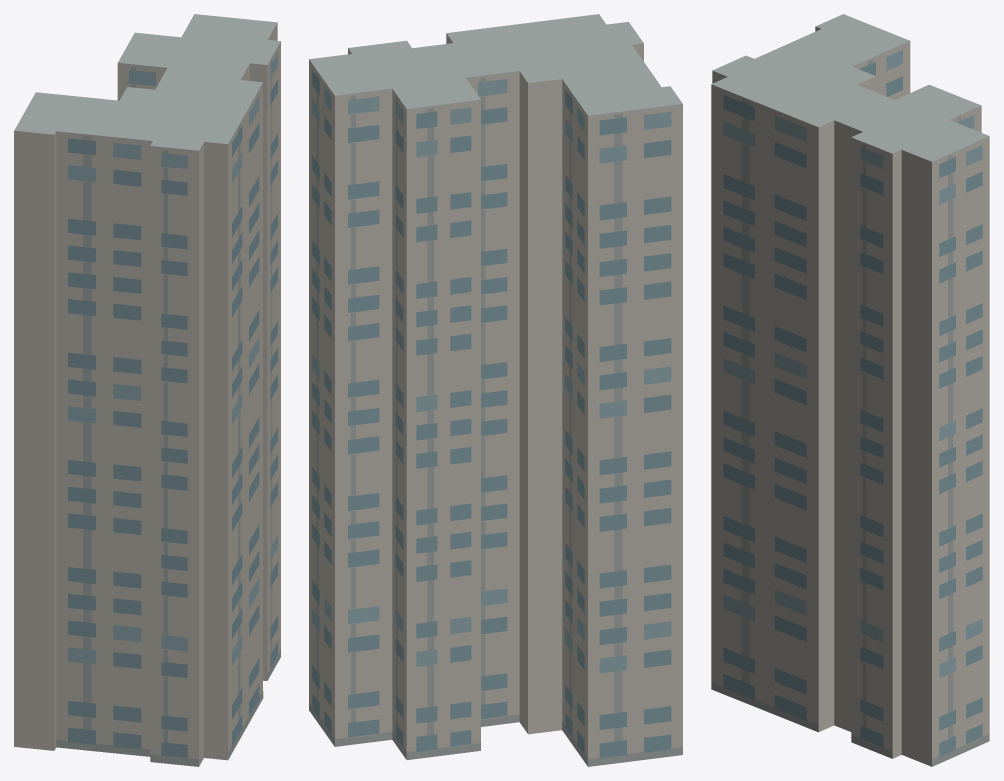
File: residential-c93cc7d3-e166-4894-b5d2-5c7a311d1de7.glb
3 views of the same model, side by side, from view 1: azimuth 30°, elevation 25°; view 2: azimuth 150°, elevation 25°; view 3: azimuth 270°, elevation 25° (orthographic). The views are drawn at different scales.
Parts seen in each view (by area): view 1: residential-c93cc7d3-e166-4894-b5d2-5c7a311d1de7.tmp; view 2: residential-c93cc7d3-e166-4894-b5d2-5c7a311d1de7.tmp; view 3: residential-c93cc7d3-e166-4894-b5d2-5c7a311d1de7.tmp.
Part boxes in pixels (bbox=[...]): residential-c93cc7d3-e166-4894-b5d2-5c7a311d1de7.tmp: bbox=[14, 14, 280, 766]; residential-c93cc7d3-e166-4894-b5d2-5c7a311d1de7.tmp: bbox=[309, 14, 682, 766]; residential-c93cc7d3-e166-4894-b5d2-5c7a311d1de7.tmp: bbox=[711, 14, 989, 766].
Size of the model in its own units: 38.79 by 74 by 30.88.
